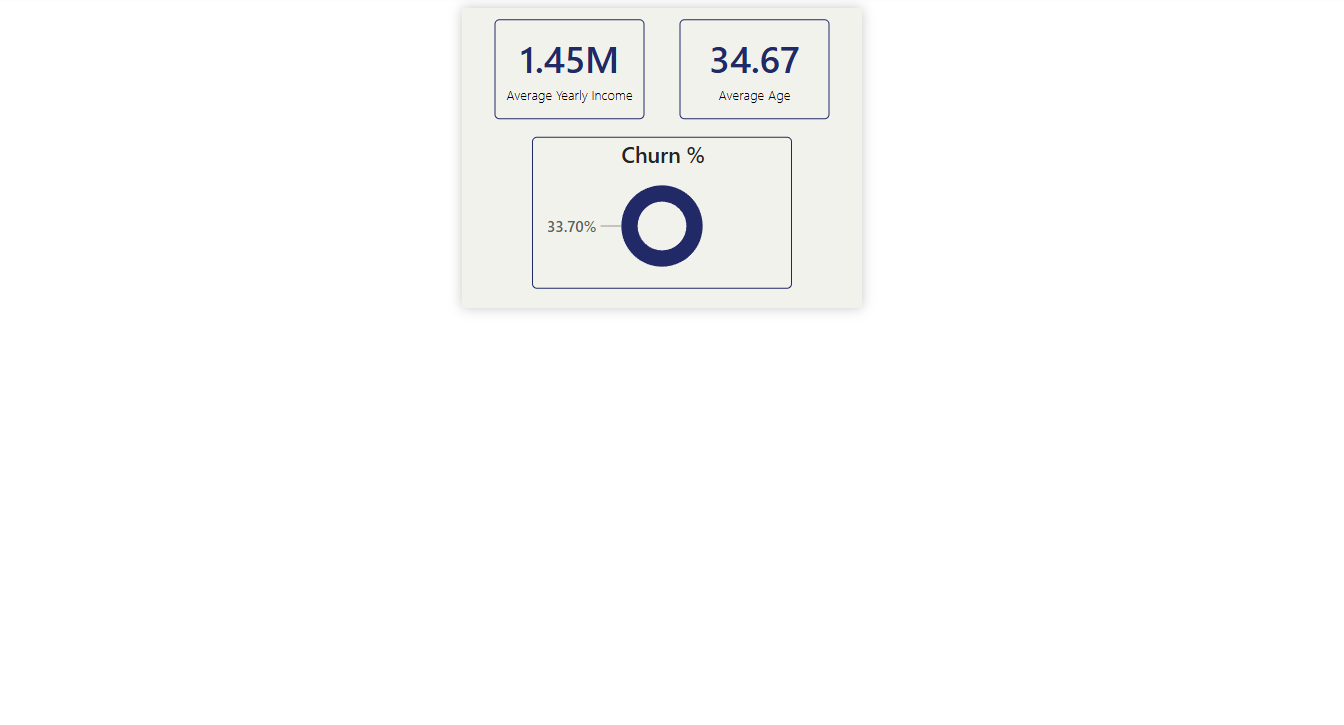

Layout of this report page (visuals, bound fields, positions):
{"tool":"powerbi","page":{"name":"Funnel Tooltip","canvas":[320,240],"ordinal":4},"visuals":[{"type":"card","fields":{"Values":["_Measures.Average Yearly Income"]},"box":[26,9,120,80],"z":0},{"type":"card","fields":{"Values":["_Measures.Average Age"]},"box":[174,9,120,80],"z":1000},{"type":"donutChart","title":"Churn %","fields":{"Y":["_Measures.Churned %"]},"box":[56,103,208,122],"z":2000}]}

Visuals, with their boxes on the page's 320x240 design canvas (x1, y1, x2, y2). These are canvas units, not pixel positions in the 1344x725 screenshot, which may show the page scaled, cropped or inside an application window:
card - _Measures.Average Yearly Income: pyautogui.locateOnScreen(26, 9, 146, 89)
card - _Measures.Average Age: pyautogui.locateOnScreen(174, 9, 294, 89)
"Churn %" donutChart: pyautogui.locateOnScreen(56, 103, 264, 225)
